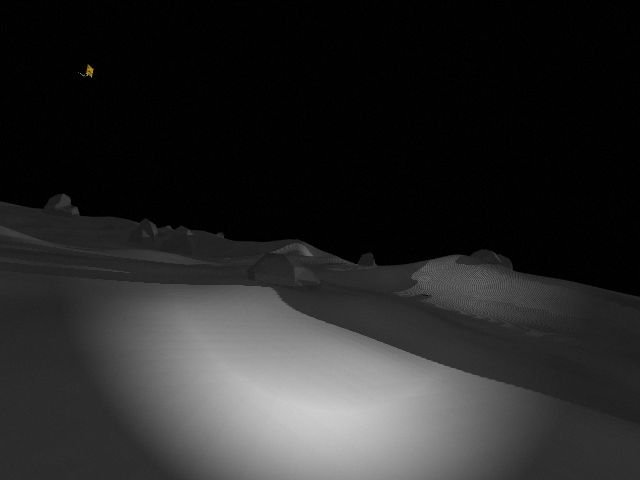cubesat: (75, 62, 97, 81)
